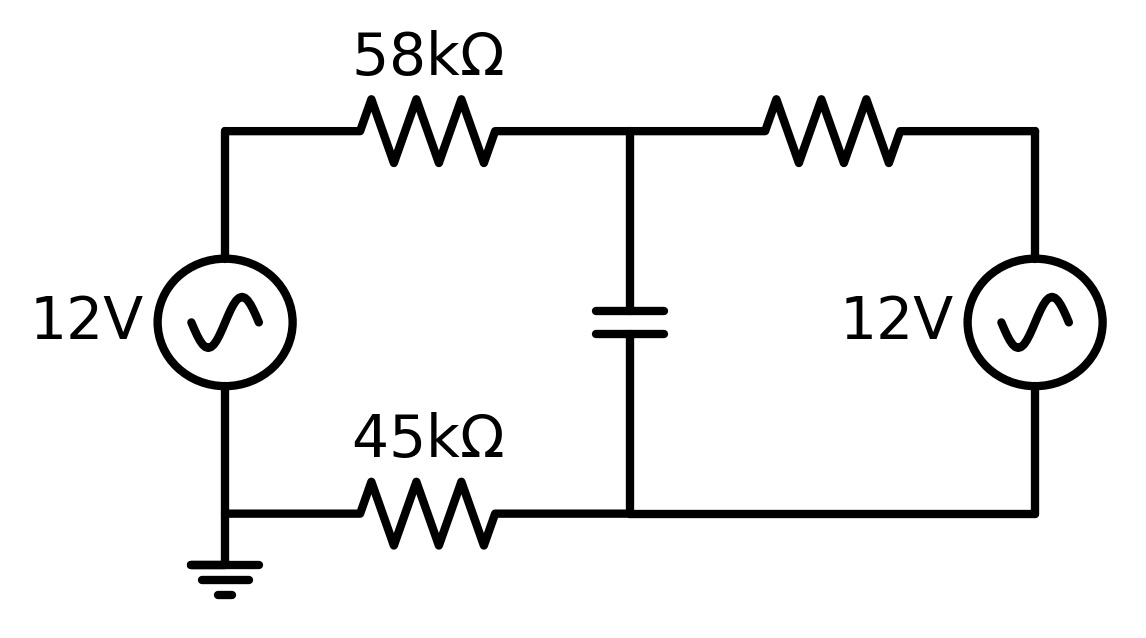capacitor: (571, 289, 679, 353)
ground: (183, 553, 268, 605)
resistor: (350, 86, 500, 182), (755, 89, 903, 179), (349, 470, 500, 554)
sourceac: (147, 252, 302, 400), (960, 250, 1111, 392)
